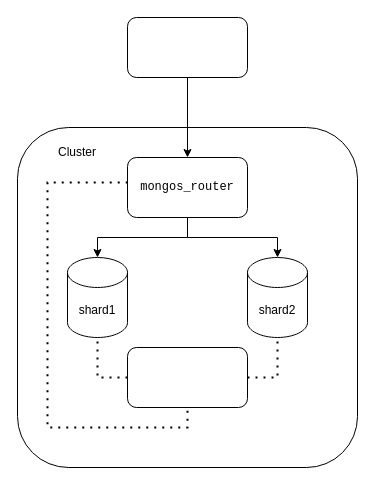
Image size: 375x485. Some labels were removed from this diagram. Each missing label, with the box of its shape:
configSrv: (126, 346, 248, 408)
pymongo-api: (126, 16, 248, 78)
